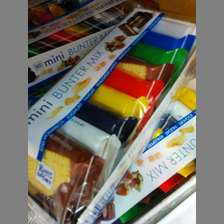chocolate: (29, 9, 195, 224)
